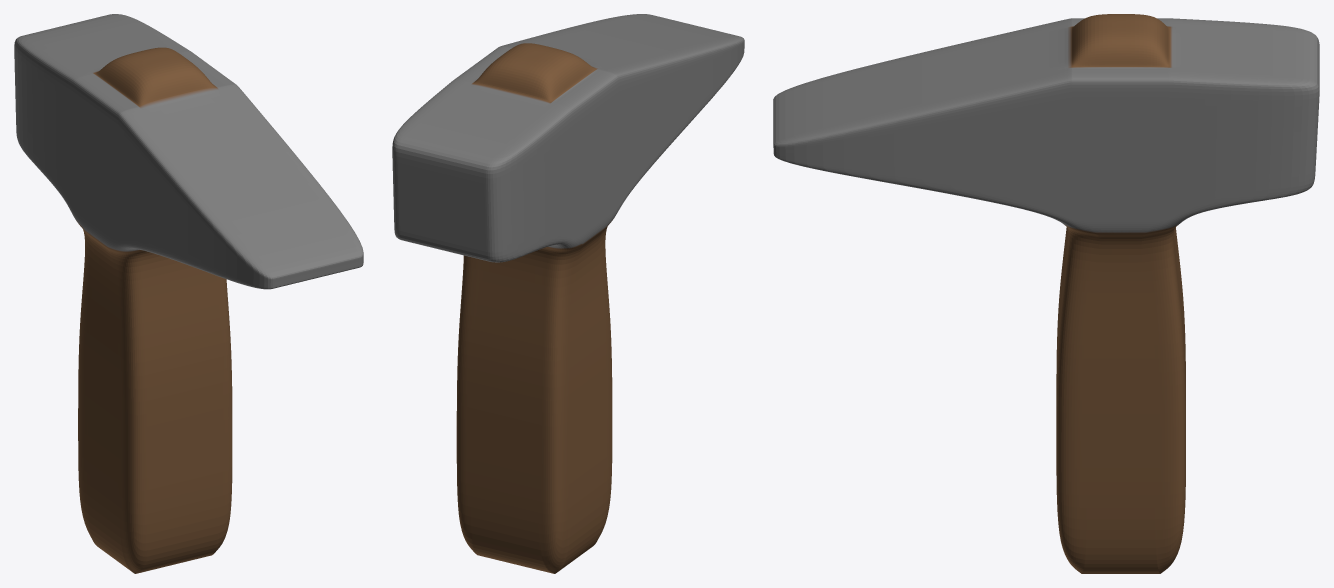
Rendered from hammer.obj.
3 renders of one model, left to right at view 1: azimuth 30°, elevation 25°; view 2: azimuth 150°, elevation 25°; view 3: azimuth 270°, elevation 25°, orthographic. The views are drawn at different scales.
Parts seen in each view (by area): view 1: Cube; view 2: Cube; view 3: Cube.
Boxes of the visible parts, box(x1,y1,x2,y2) form: Cube: box(14, 14, 363, 573); Cube: box(392, 14, 744, 573); Cube: box(773, 14, 1319, 573).
Bounding box in the file's own units: 0.5379 × 2.09 × 1.95.
1 material, 1 textured.
